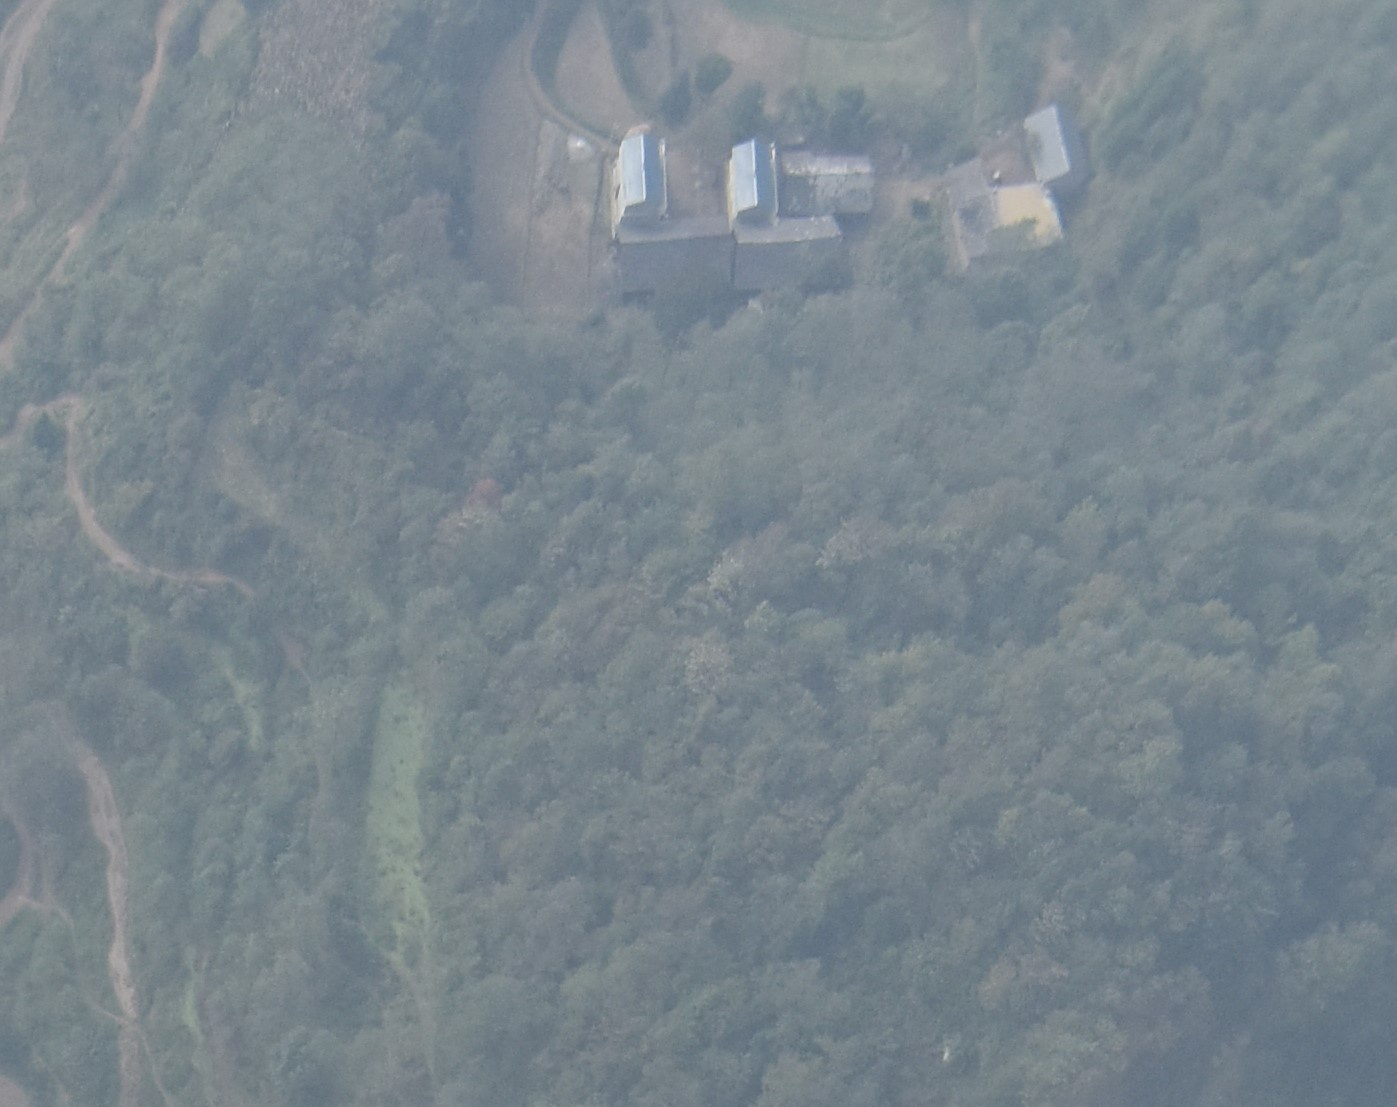building: (946, 162, 1065, 255), (621, 218, 734, 299), (733, 221, 844, 289), (785, 153, 874, 217), (1022, 105, 1085, 181)
prefabricated-house: (618, 136, 664, 209), (731, 140, 772, 213)
